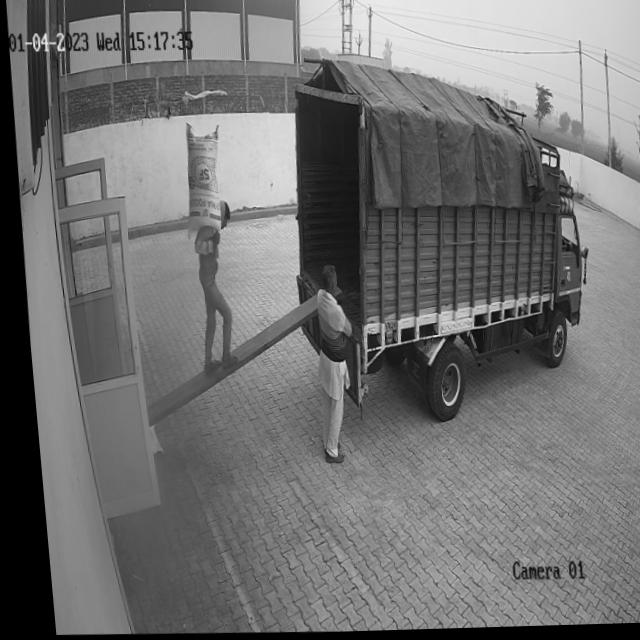sack: (175, 119, 224, 240)
